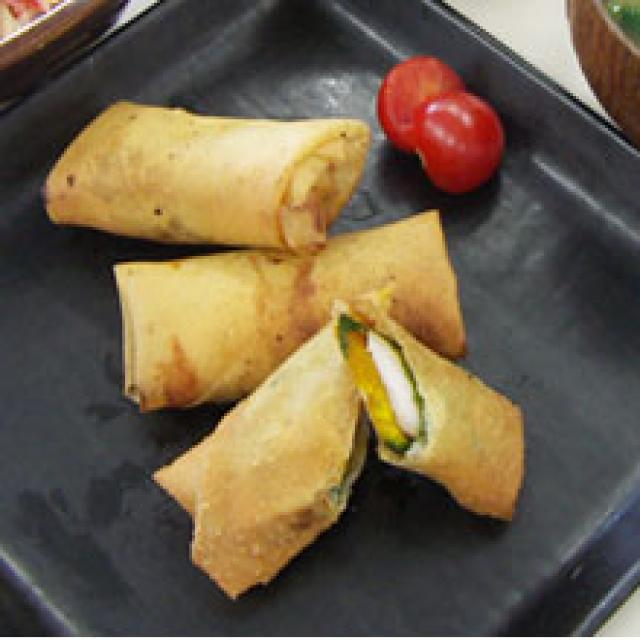鸡蛋料理: (32, 90, 527, 608)
